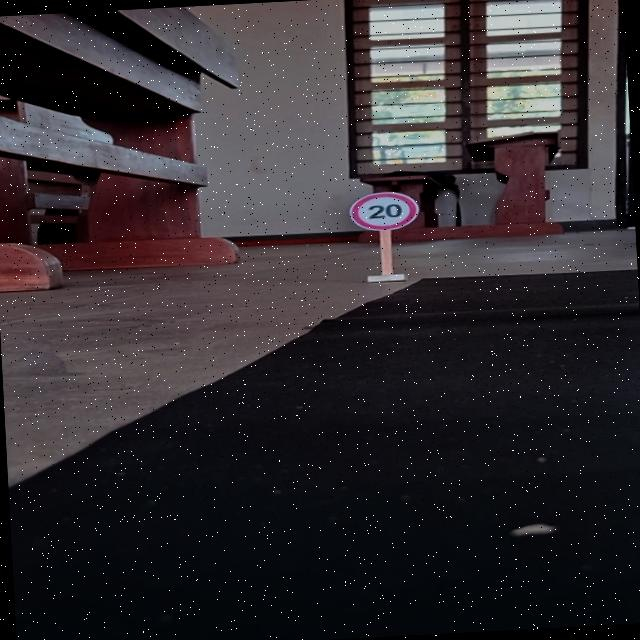Speed20: (347, 188, 422, 234)
